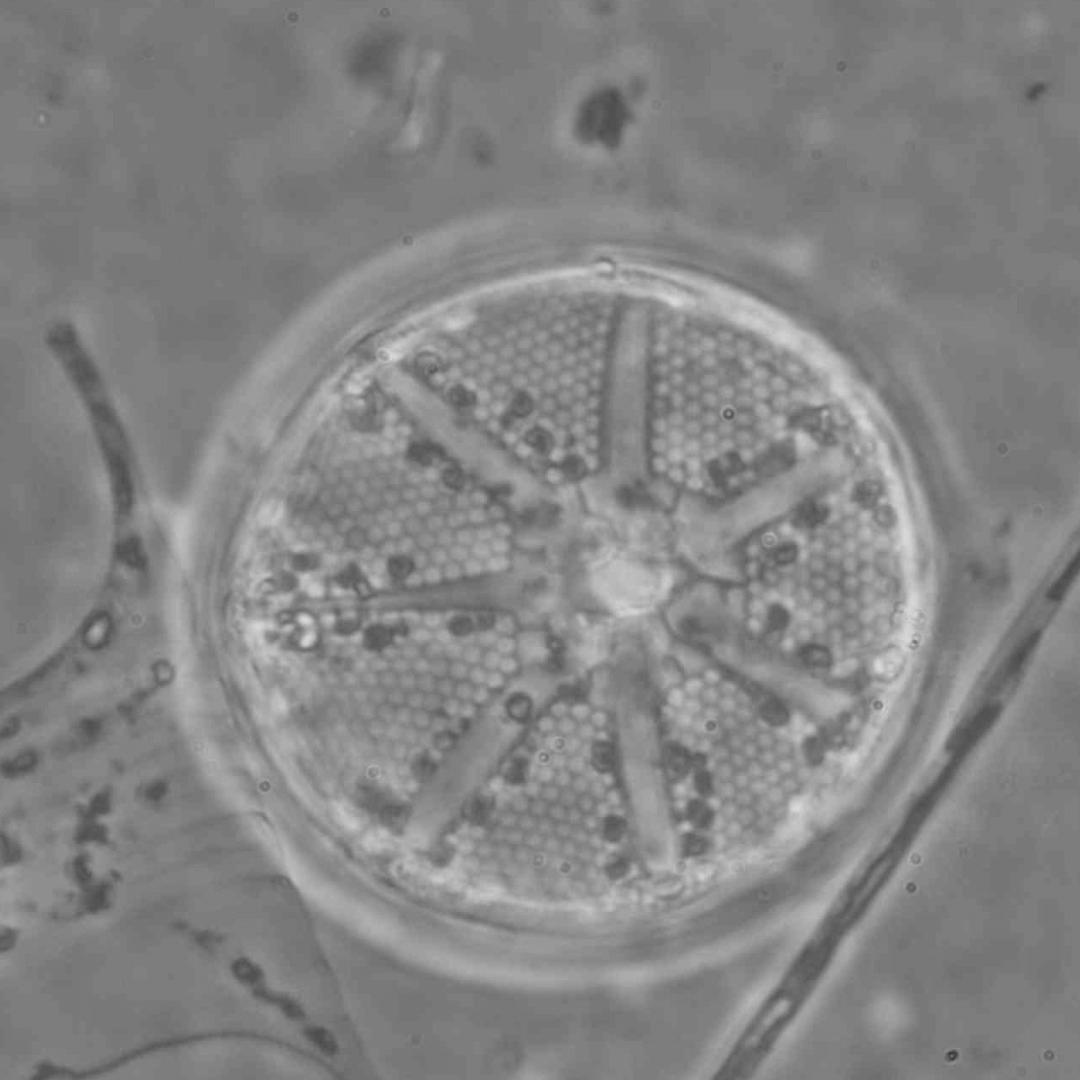asteromphalus_hyalinus: (207, 257, 940, 939)
